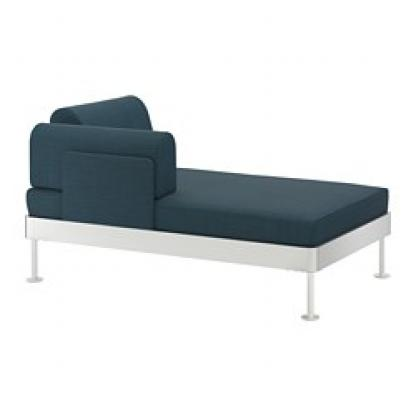Sofa: (15, 73, 398, 328)
